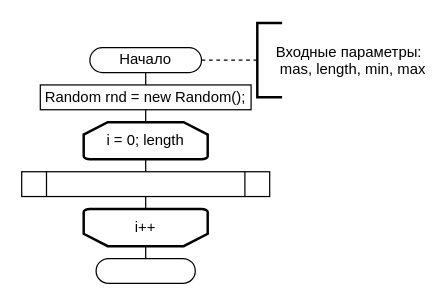
The diagram is 448 pixels wide and 305 high, and some of its shapes have lost their labels. Here are the shapes that lost their labels. From the top down, the centre of each, then its label:
At pixel 145 183: "mas[i] = rnd.Next(min, max);".
At pixel 145 270: "Конец".
